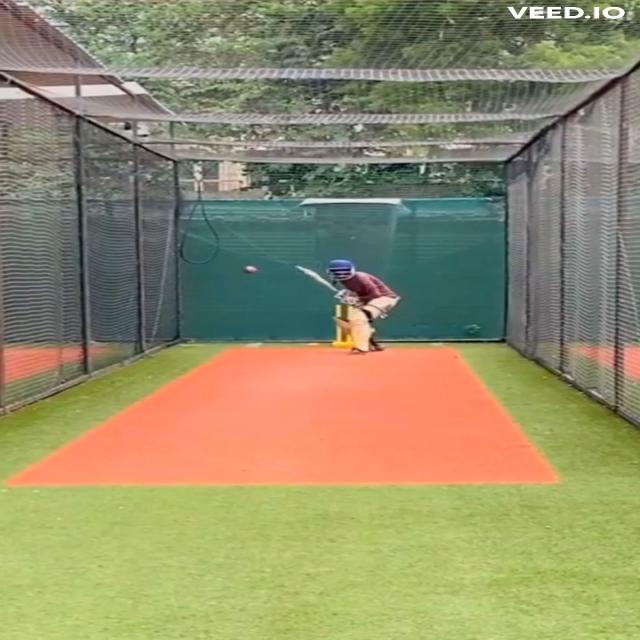ball: (241, 264, 260, 276)
stump: (334, 304, 352, 348)
